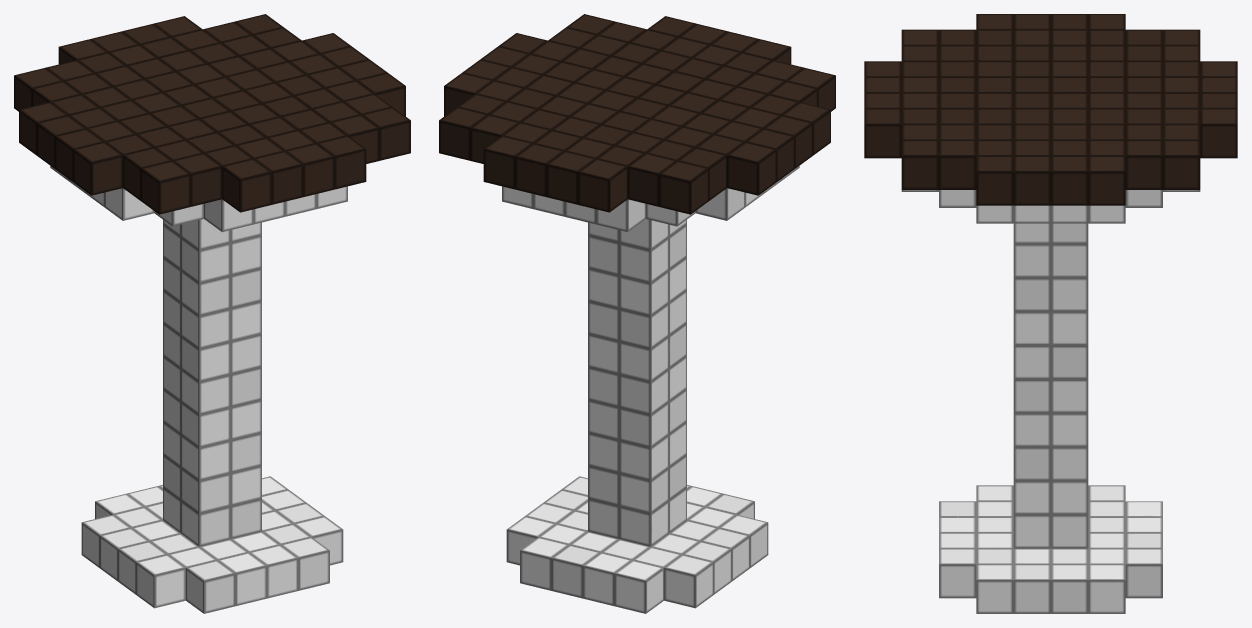
Rendered from tiny_table.glb.
3 renders of one model, left to right at view 1: azimuth 30°, elevation 25°; view 2: azimuth 150°, elevation 25°; view 3: azimuth 270°, elevation 25°, orthographic. The views are drawn at different scales.
Visible parts, largest first — view 1: tiny_table; view 2: tiny_table; view 3: tiny_table.
Boxes of the visible parts, box(x1,y1,x2,y2) form: tiny_table: box(14, 14, 410, 613); tiny_table: box(439, 14, 835, 613); tiny_table: box(864, 14, 1237, 613).
Bounding box in the file's own units: 0.5 × 0.7 × 0.5.
2 materials, 2 textured.
